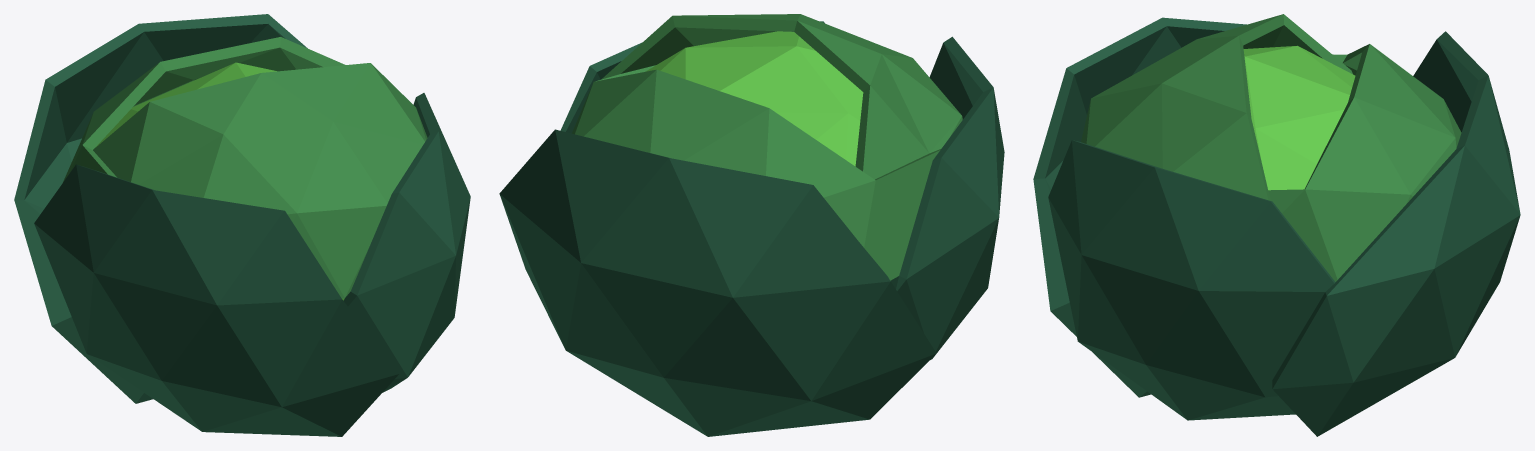
The model's file is Cabbage_M.fbx.
3 renders of one model, left to right at view 1: azimuth 30°, elevation 25°; view 2: azimuth 150°, elevation 25°; view 3: azimuth 270°, elevation 25°, orthographic. The views are drawn at different scales.
Visible parts, largest first — view 1: Cabbage M; view 2: Cabbage M; view 3: Cabbage M.
Boxes of the visible parts, bbox=[...] form: Cabbage M: bbox=[14, 14, 470, 436]; Cabbage M: bbox=[499, 14, 1004, 436]; Cabbage M: bbox=[1033, 14, 1520, 436].
Size of the model in its own units: 33.49 by 28.29 by 36.1.
